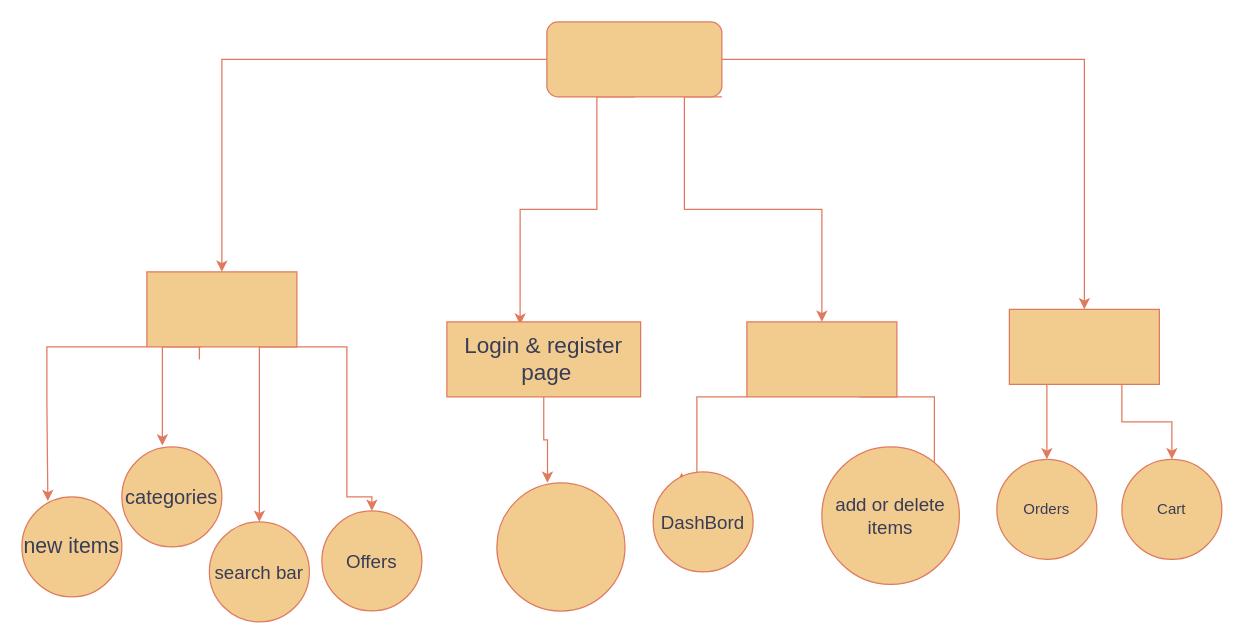
Image size: 1244x644. Some labels were removed from this diagram. Here are the shapes that lost their labels. From the top down, the box of each, then its label:
(546, 21, 722, 97): E-commerce
(146, 271, 297, 347): Home page
(746, 321, 897, 397): admin page
(1008, 308, 1159, 384): User pages
(496, 482, 625, 611): login and register form
